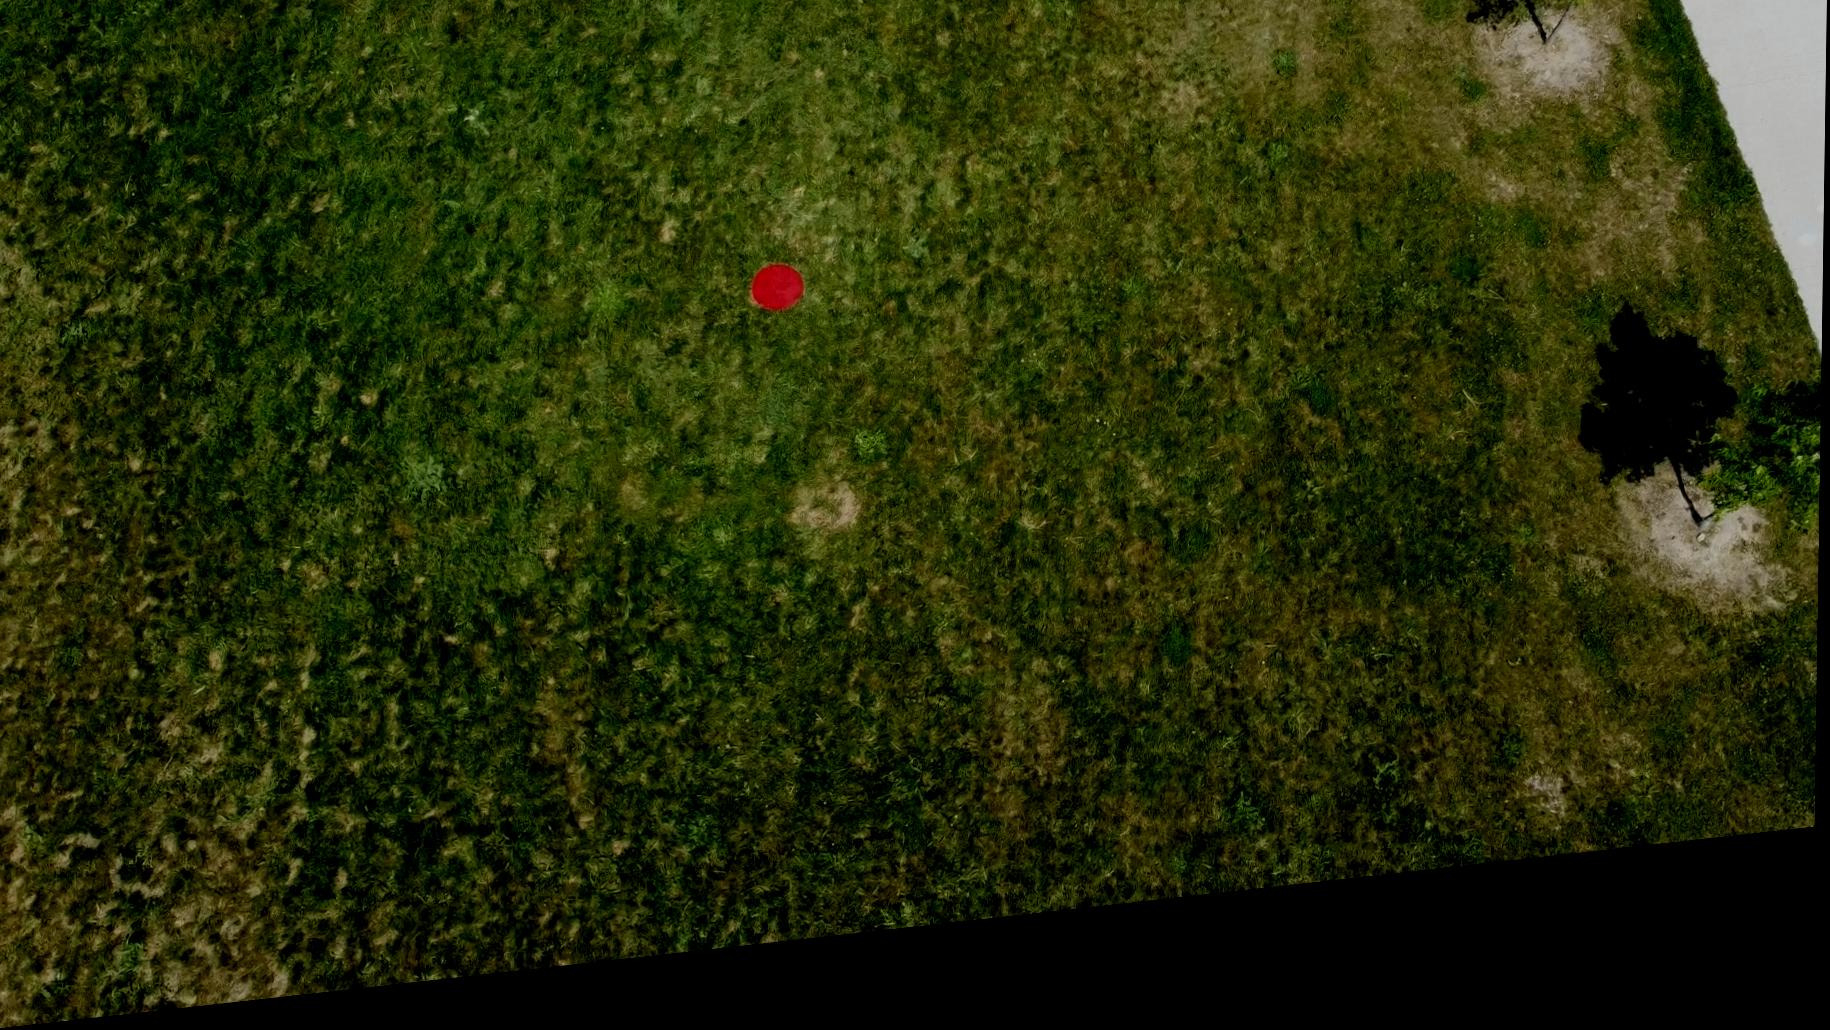Red: (748, 274, 808, 337)
